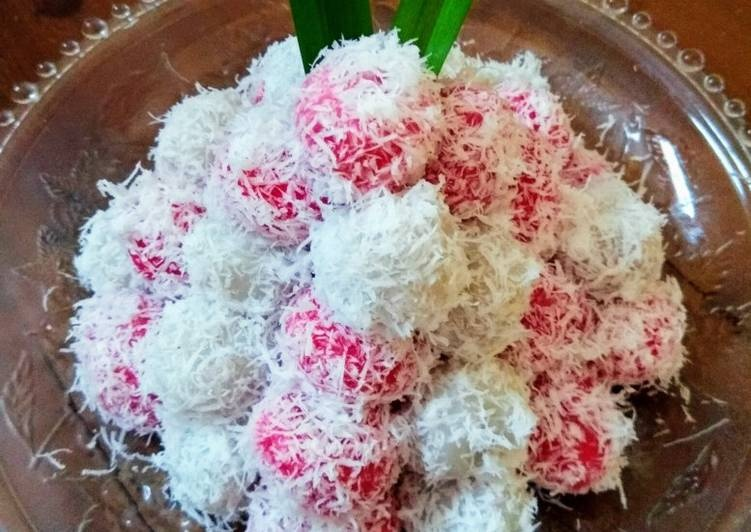klepon: (297, 205, 467, 338)
